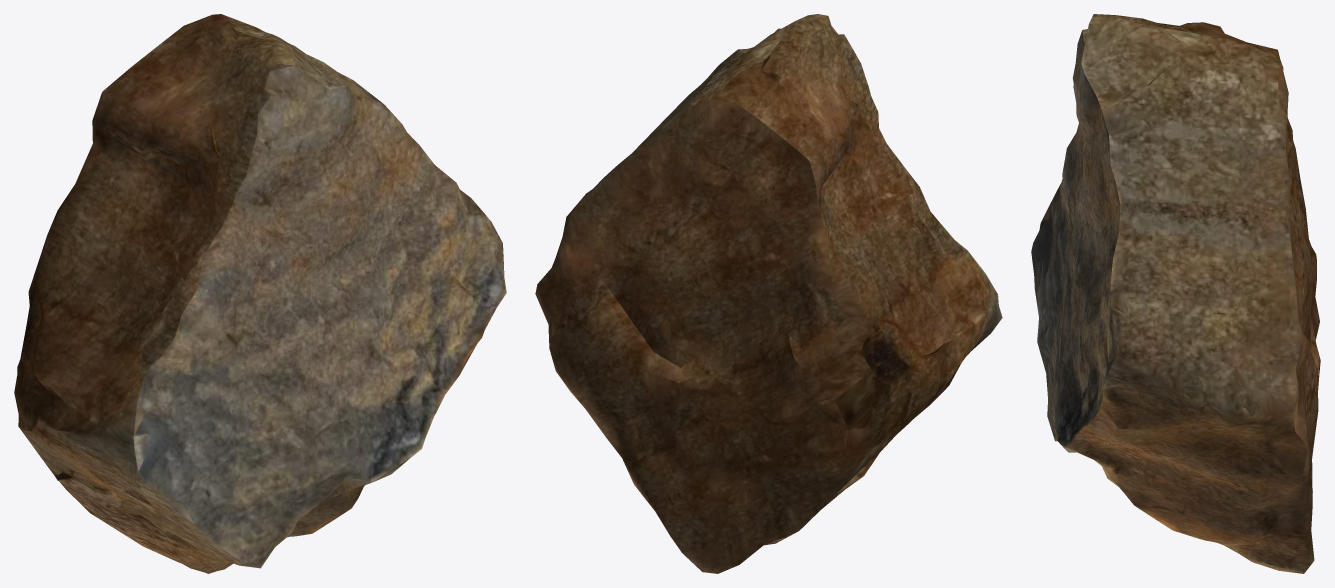
File: standing_stone_broad.glb
3 renders of one model, left to right at view 1: azimuth 30°, elevation 25°; view 2: azimuth 150°, elevation 25°; view 3: azimuth 270°, elevation 25°, orthographic. The views are drawn at different scales.
Parts seen in each view (by area): view 1: standing_stone_broad; view 2: standing_stone_broad; view 3: standing_stone_broad.
Boxes of the visible parts, left/top/right/bottom form: standing_stone_broad: left=14, top=14, right=506, bottom=573; standing_stone_broad: left=535, top=14, right=1002, bottom=573; standing_stone_broad: left=1031, top=14, right=1320, bottom=573.
Size of the model in its own units: 3.14 by 3.99 by 1.92.
1 material, 1 textured.
